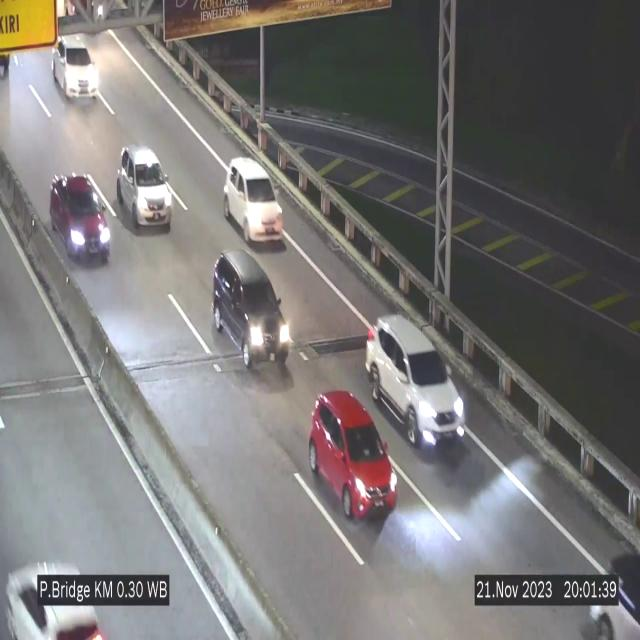Car: (365, 315, 467, 449), (0, 537, 120, 640), (309, 389, 396, 519), (209, 249, 291, 379), (223, 156, 284, 245), (50, 174, 110, 262), (116, 146, 172, 229), (52, 33, 104, 107)
